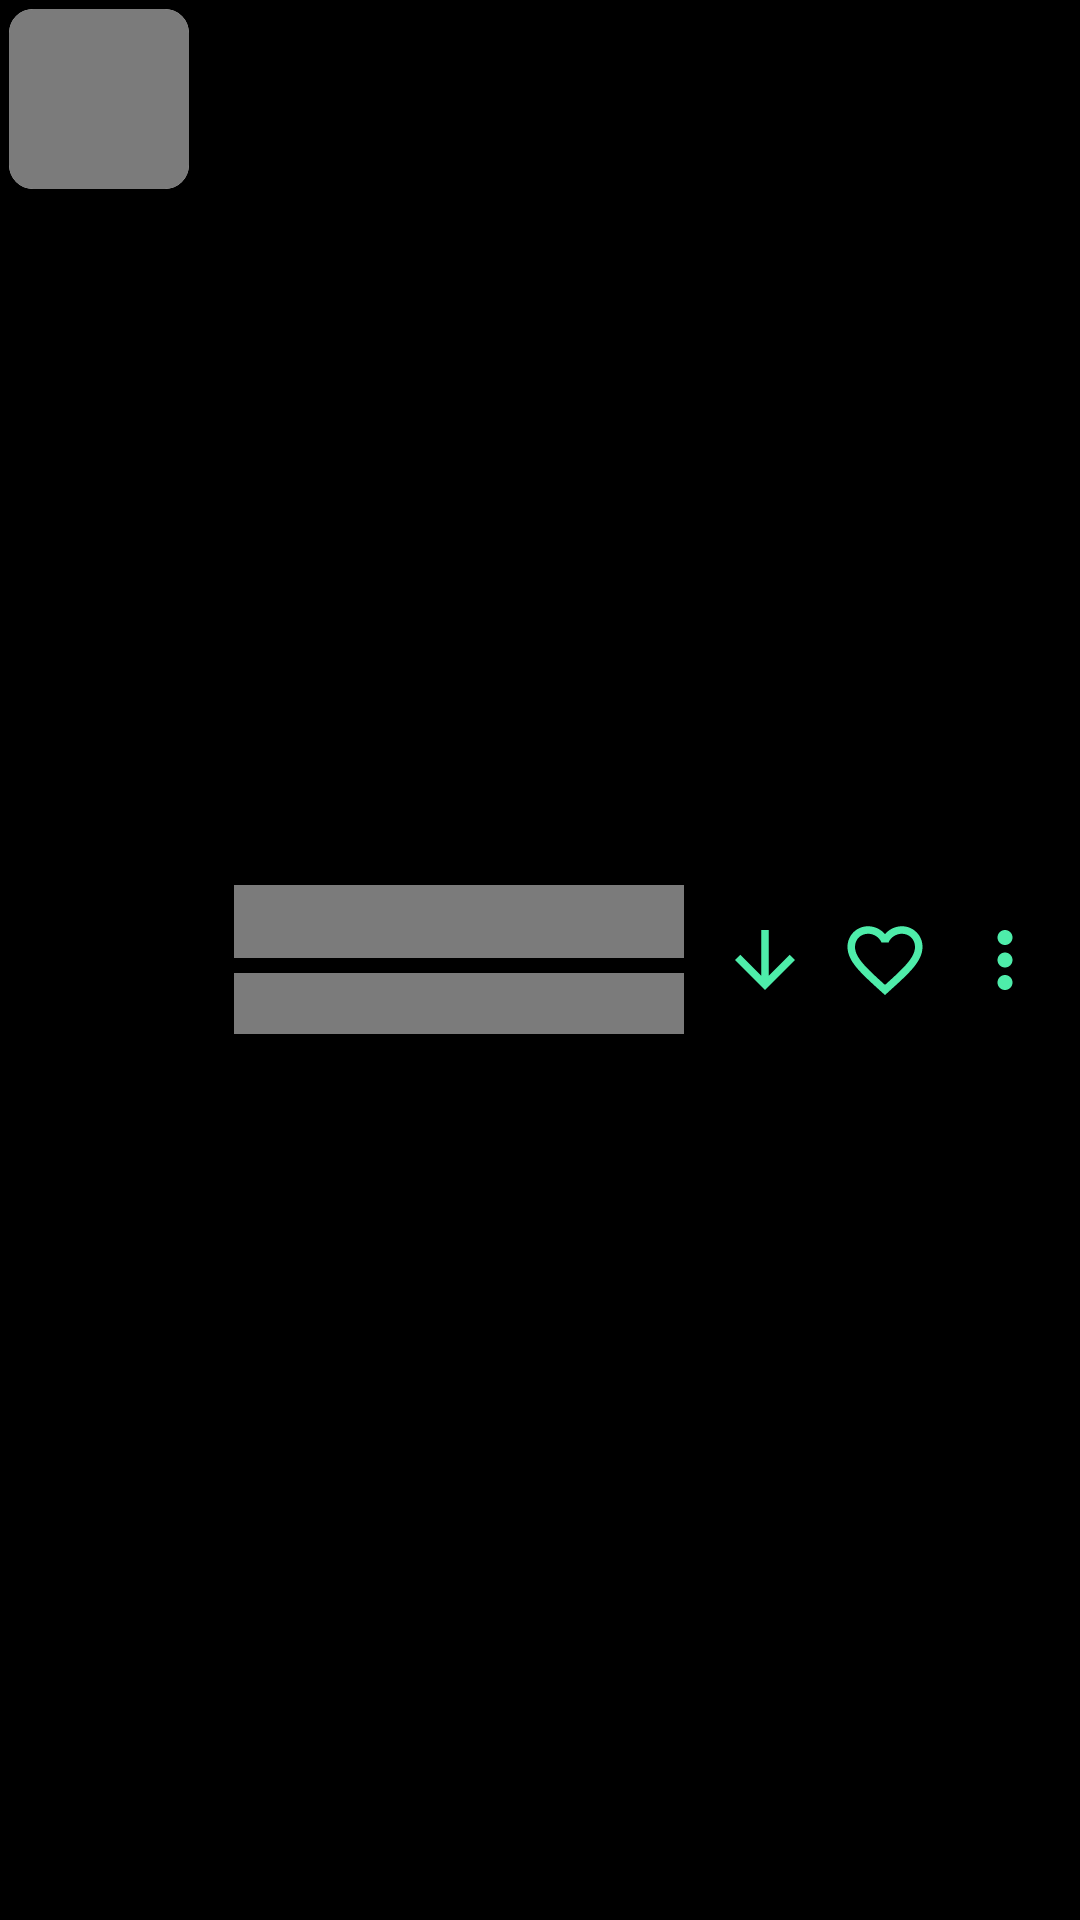

Screen size 1080px×1920px. Icon name, then its center in pixels as [x,y]:
arrow down: [765,960]
like: [885,960]
menu: [1005,960]
